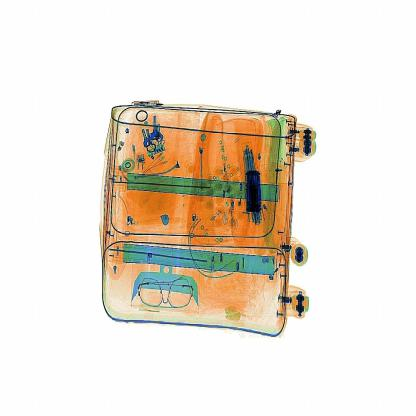scissors: (240, 166, 268, 224)
